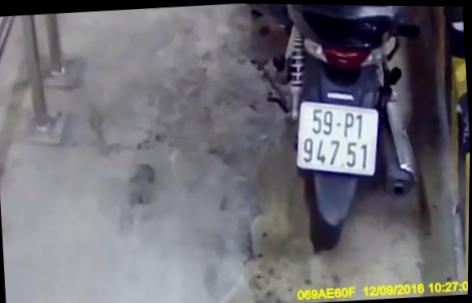LP: (291, 92, 383, 179)
